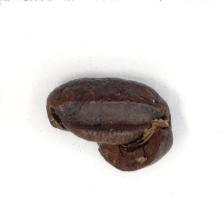NG: (46, 99, 171, 170)
